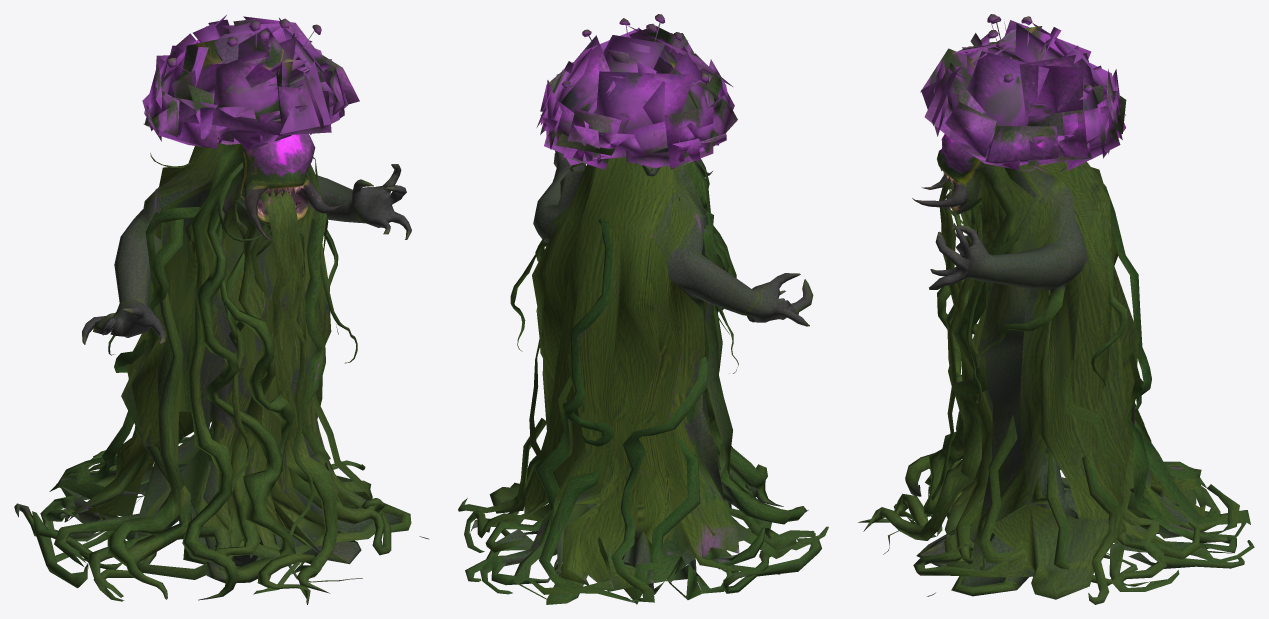
Rendered from vine_monster.glb.
3 views of the same model, side by side, from view 1: azimuth 30°, elevation 25°; view 2: azimuth 150°, elevation 25°; view 3: azimuth 270°, elevation 25° (orthographic). The views are drawn at different scales.
Bounding box in the file's own units: 0.6396 × 0.9512 × 0.6621.
1 material, 1 textured.
